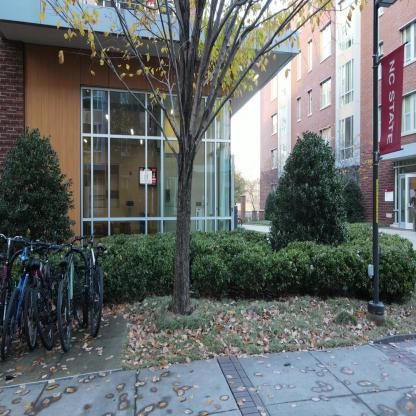Wolf Ridge: (0, 0, 415, 314)
